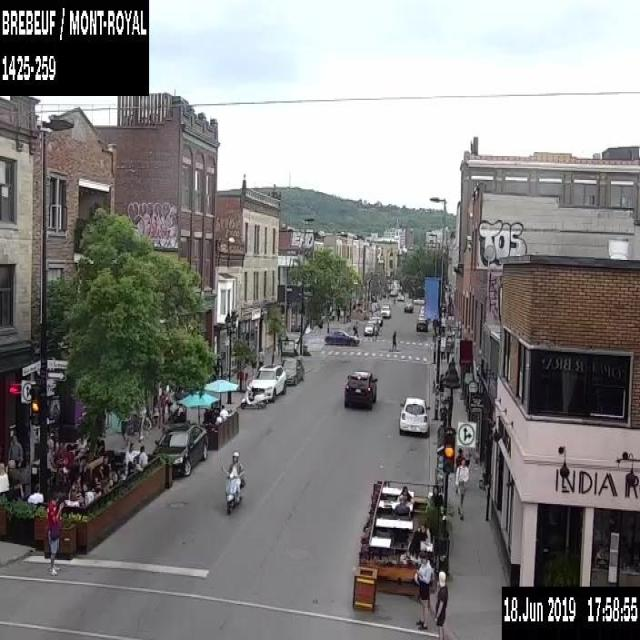pedestrian: (44, 489, 66, 576), (412, 550, 432, 630), (452, 455, 470, 520), (433, 568, 447, 639), (7, 435, 23, 469), (157, 385, 171, 420), (408, 531, 424, 561), (394, 494, 409, 518), (26, 482, 42, 502), (81, 481, 93, 504), (136, 444, 148, 466), (124, 442, 136, 464), (417, 522, 430, 541), (64, 489, 79, 505), (398, 484, 411, 500), (439, 331, 445, 365), (430, 484, 440, 504), (446, 334, 452, 363), (370, 322, 378, 342), (390, 328, 396, 351), (352, 319, 359, 336), (326, 321, 329, 331)
vehicle: (153, 419, 209, 477), (245, 362, 285, 398), (343, 368, 378, 409), (223, 448, 245, 512), (398, 395, 430, 437), (275, 357, 304, 385), (324, 328, 358, 347), (240, 390, 263, 408), (363, 318, 378, 334), (416, 314, 428, 330), (404, 297, 414, 312), (380, 302, 390, 316), (397, 291, 403, 300)
